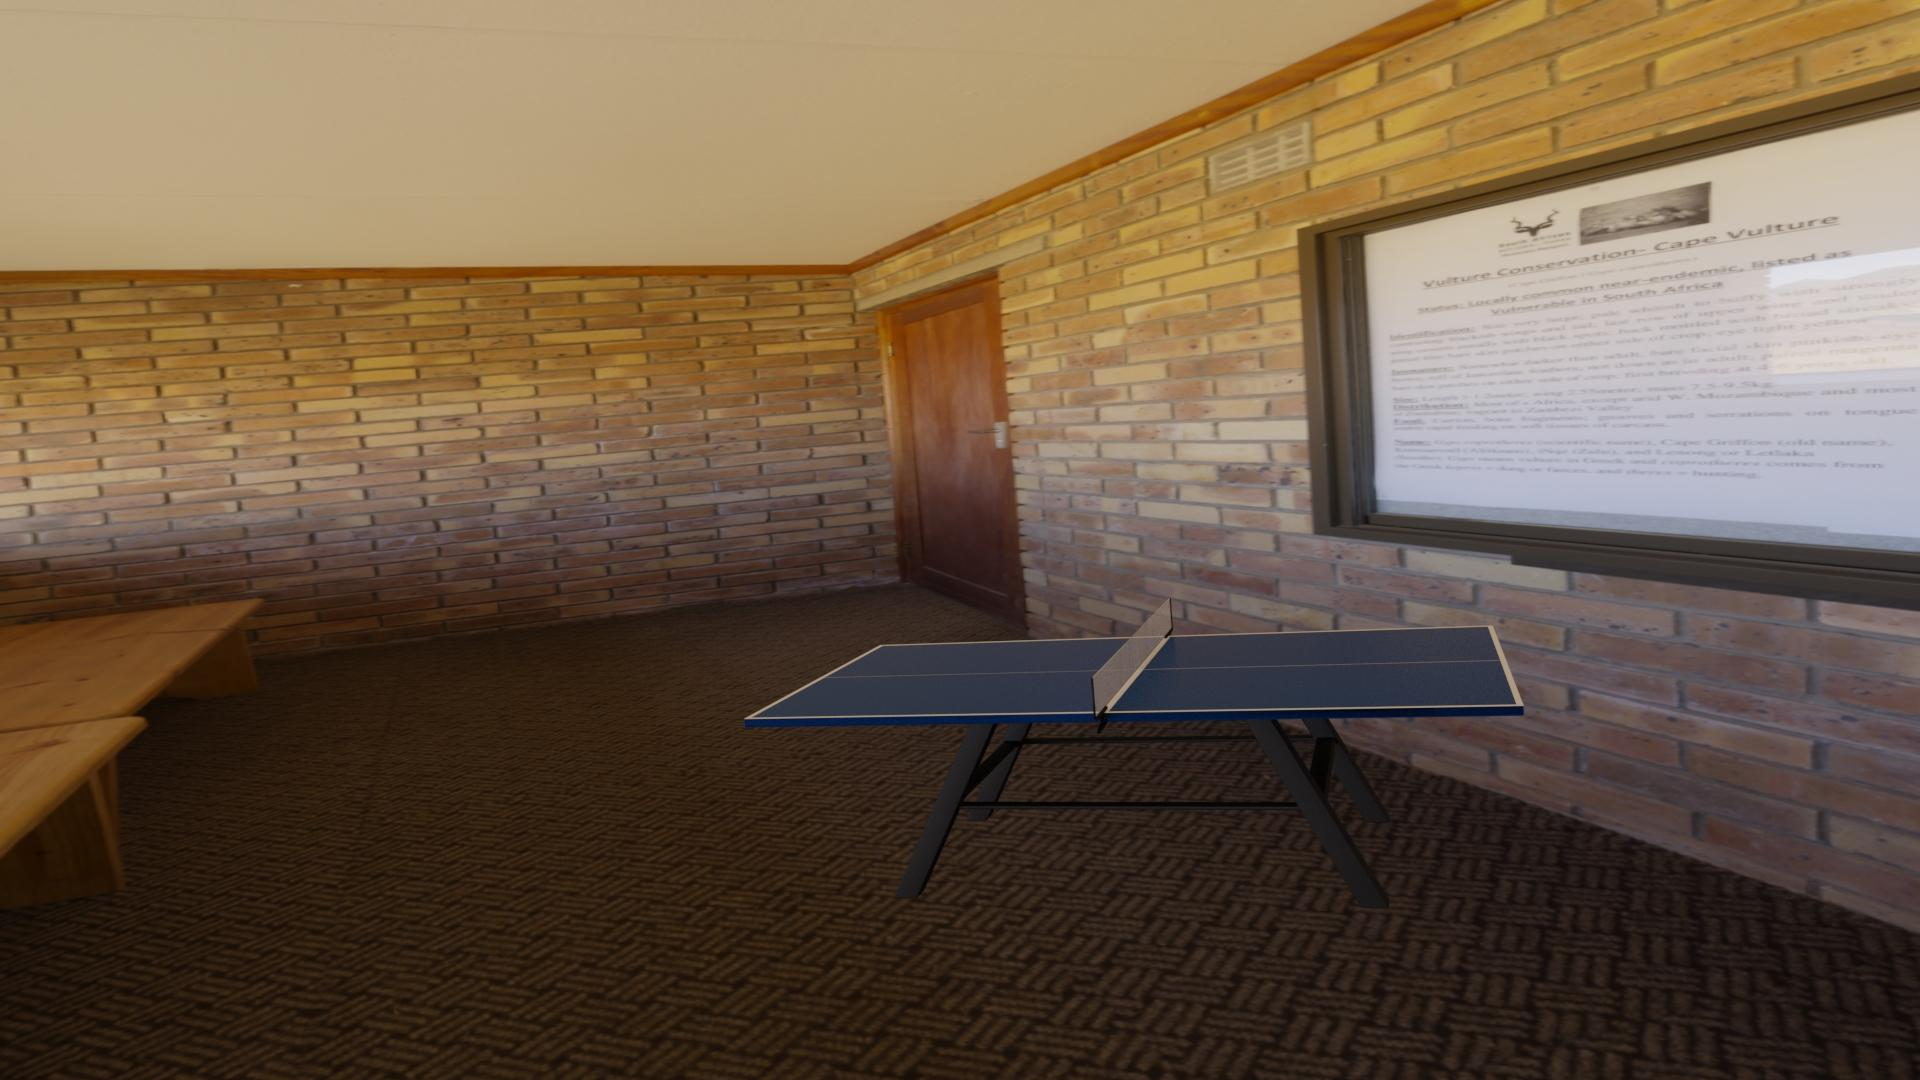table: (750, 626, 1516, 717)
